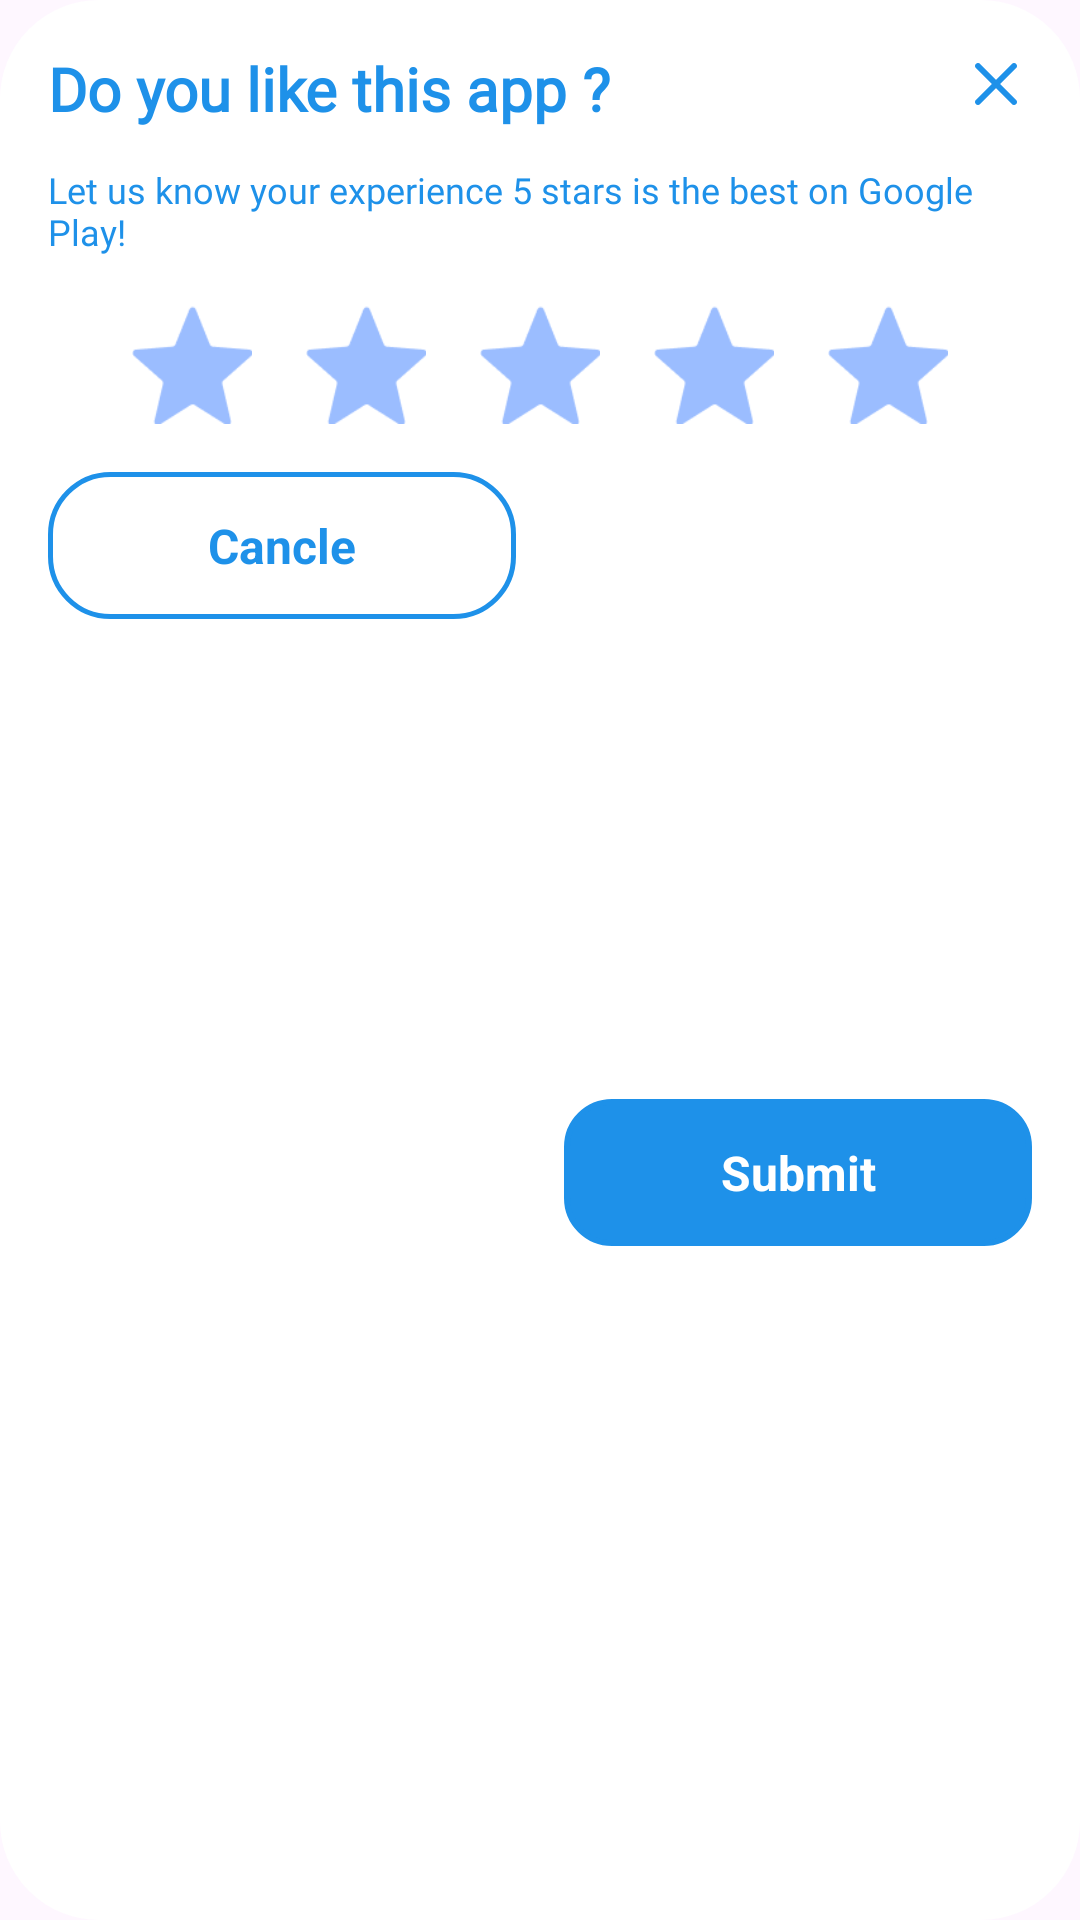

Icon bounding boxes for this 1080px×1920px phone screenshot, format (x1, y1, x2, y2):
close: (975, 63, 1017, 105)
rate unselect: (132, 307, 252, 424), (306, 307, 426, 424), (480, 307, 600, 424), (654, 307, 774, 424), (828, 307, 948, 424)
